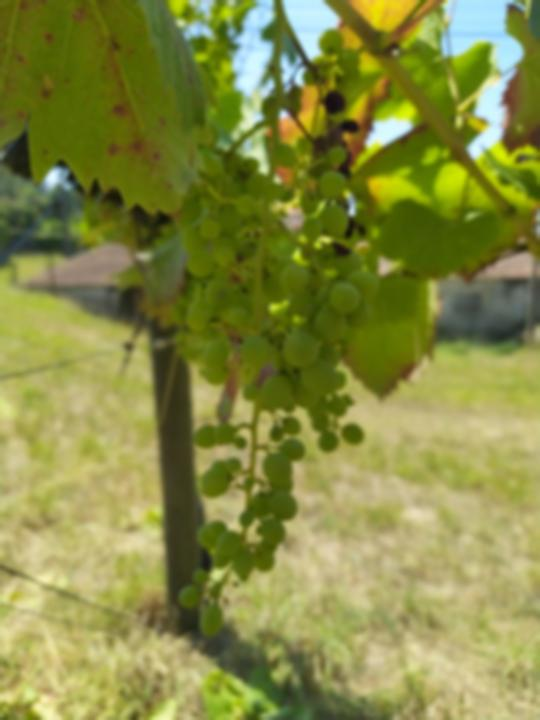grape: (174, 135, 383, 644)
